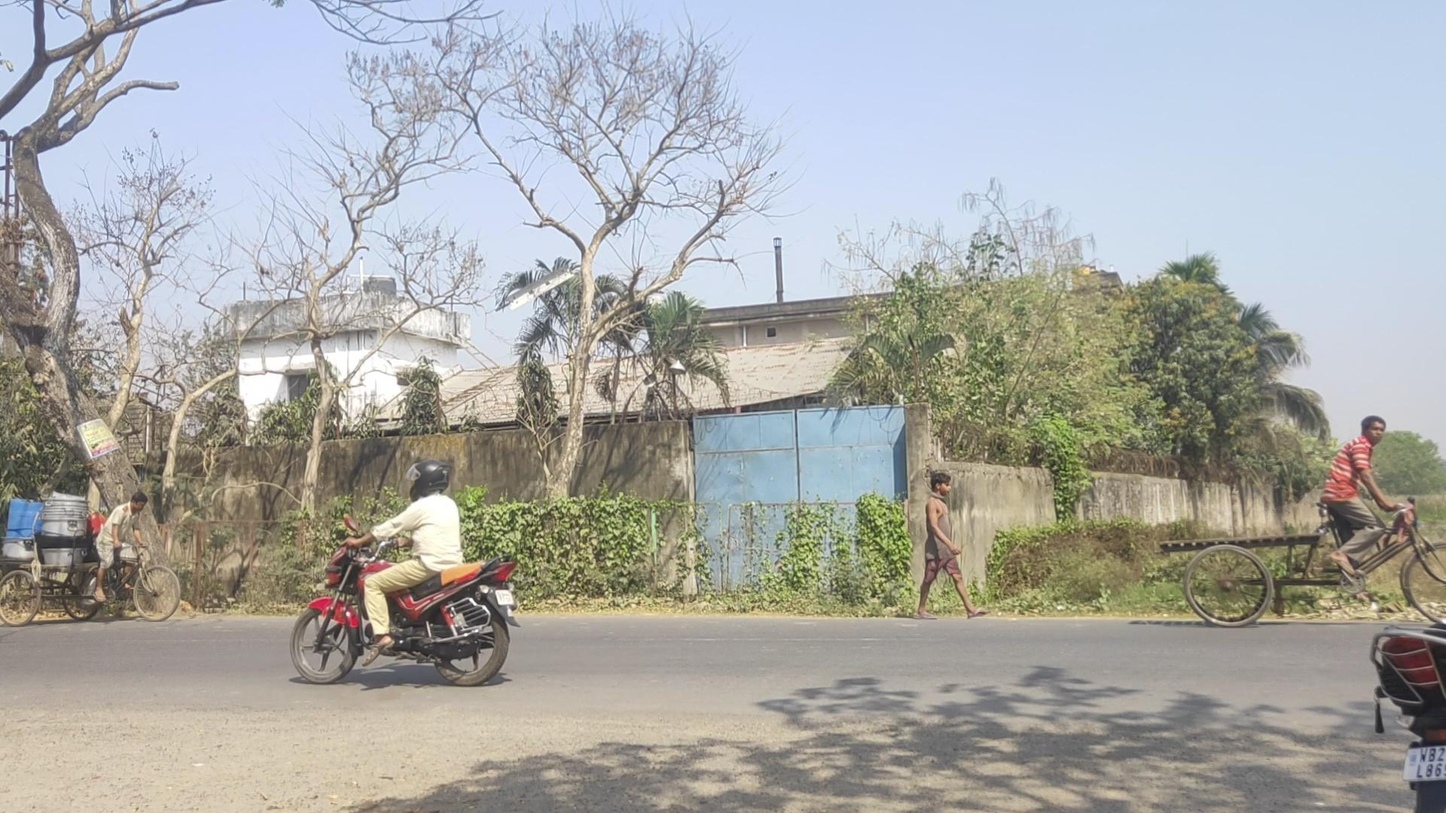bike: (291, 459, 519, 687)
